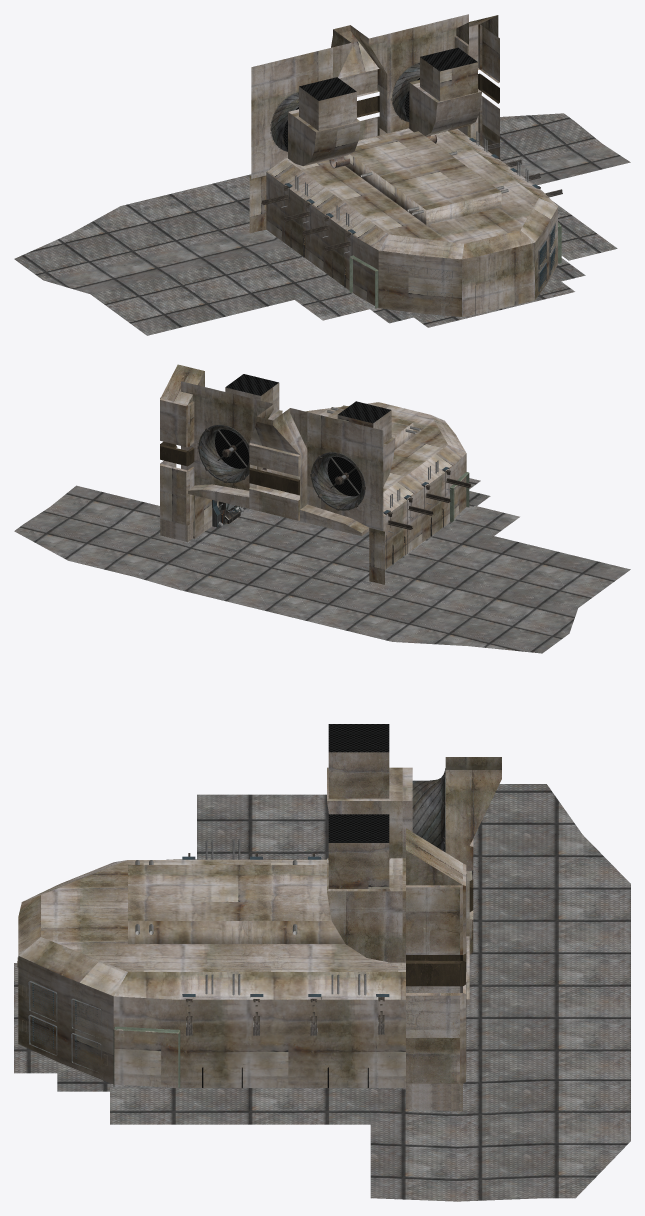
File: Space_Station.fbx
3 renders of one model, top to bottom at view 1: azimuth 30°, elevation 25°; view 2: azimuth 150°, elevation 25°; view 3: azimuth 270°, elevation 25°, orthographic. The views are drawn at different scales.
Visible parts, largest first — view 1: Warhawk_Section:Entrance_Walls_Ceiling, Warhawk_Section:Entrance_Floor_2, Warhawk_Section:Air_Vent_Wall, Warhawk_Section:Big_Wall_8, Warhawk_Section:Entrance_Floor_1, Warhawk_Section:Vent_Wire_Mesh, Warhawk_Section:Entrance_Trusses, Warhawk_Section:Entrance_Vents_Right; view 2: Warhawk_Section:Entrance_Floor_2, Warhawk_Section:Air_Vent_Wall, Warhawk_Section:Entrance_Walls_Ceiling, Warhawk_Section:Entrance_Floor_1, Warhawk_Section:Big_Wall_8, Warhawk_Section:Vent_Wire_Mesh, Warhawk_Section:Entrance_Trusses, Warhawk_Section:Entrance_Console_1, Warhawk_Section:Air_Vent_Grill_1; view 3: Warhawk_Section:Entrance_Floor_2, Warhawk_Section:Entrance_Walls_Ceiling, Warhawk_Section:Air_Vent_Wall, Warhawk_Section:Big_Wall_8, Warhawk_Section:Vent_Wire_Mesh, Warhawk_Section:Entrance_Floor_1, Warhawk_Section:Entrance_Vents_Right, Warhawk_Section:Entrance_Trusses.
Boxes of the visible parts, left/top/right/bottom form: Warhawk_Section:Entrance_Walls_Ceiling: left=249, top=125, right=557, bottom=316; Warhawk_Section:Entrance_Floor_2: left=14, top=113, right=630, bottom=335; Warhawk_Section:Air_Vent_Wall: left=251, top=14, right=481, bottom=178; Warhawk_Section:Big_Wall_8: left=454, top=15, right=499, bottom=159; Warhawk_Section:Entrance_Floor_1: left=263, top=229, right=585, bottom=327; Warhawk_Section:Vent_Wire_Mesh: left=283, top=47, right=477, bottom=149; Warhawk_Section:Entrance_Trusses: left=261, top=139, right=562, bottom=251; Warhawk_Section:Entrance_Vents_Right: left=538, top=223, right=555, bottom=291; Warhawk_Section:Entrance_Floor_2: left=14, top=485, right=630, bottom=653; Warhawk_Section:Air_Vent_Wall: left=181, top=381, right=395, bottom=536; Warhawk_Section:Entrance_Walls_Ceiling: left=193, top=402, right=466, bottom=584; Warhawk_Section:Entrance_Floor_1: left=192, top=478, right=490, bottom=582; Warhawk_Section:Big_Wall_8: left=160, top=364, right=204, bottom=541; Warhawk_Section:Vent_Wire_Mesh: left=215, top=374, right=390, bottom=496; Warhawk_Section:Entrance_Trusses: left=387, top=470, right=471, bottom=529; Warhawk_Section:Entrance_Console_1: left=212, top=500, right=241, bottom=527; Warhawk_Section:Air_Vent_Grill_1: left=310, top=452, right=365, bottom=510; Warhawk_Section:Entrance_Floor_2: left=110, top=784, right=630, bottom=1201; Warhawk_Section:Entrance_Walls_Ceiling: left=18, top=859, right=405, bottom=1087; Warhawk_Section:Air_Vent_Wall: left=327, top=752, right=501, bottom=1004; Warhawk_Section:Big_Wall_8: left=406, top=828, right=466, bottom=1111; Warhawk_Section:Vent_Wire_Mesh: left=328, top=724, right=389, bottom=842; Warhawk_Section:Entrance_Floor_1: left=14, top=963, right=405, bottom=1091; Warhawk_Section:Entrance_Vents_Right: left=28, top=981, right=101, bottom=1071; Warhawk_Section:Entrance_Trusses: left=186, top=853, right=384, bottom=1035.
Bounding box in the file's own units: 30.56 × 8.97 × 19.08.
